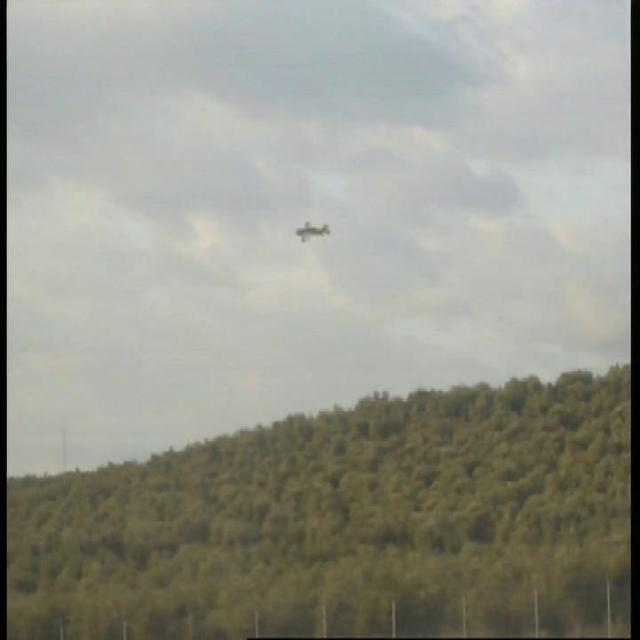drone: (291, 212, 337, 246)
